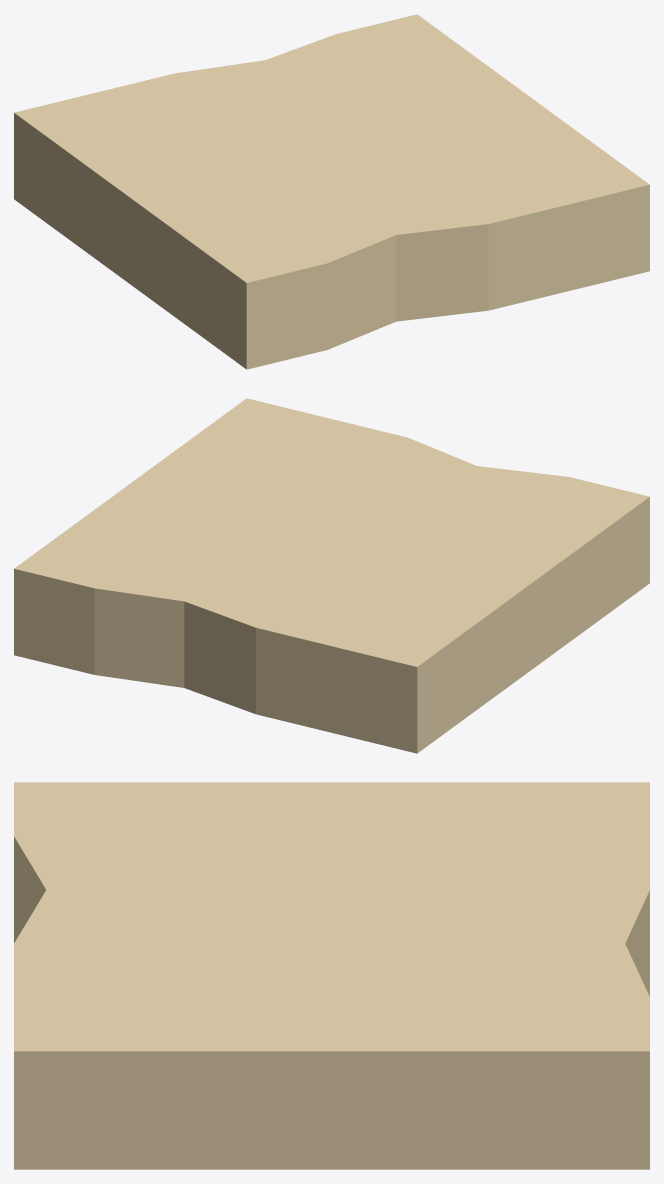
File: kum-tip1.fbx
3 views of the same model, one above another, from view 1: azimuth 30°, elevation 25°; view 2: azimuth 150°, elevation 25°; view 3: azimuth 270°, elevation 25° (orthographic). The views are drawn at different scales.
Visible parts, largest first — view 1: Cube.058; view 2: Cube.058; view 3: Cube.058.
Part boxes in pixels (<box>): Cube.058: <box>14,14,649,369</box>; Cube.058: <box>14,398,649,753</box>; Cube.058: <box>14,782,649,1169</box>.
Bounding box in the file's own units: 200 × 41.06 × 200.
